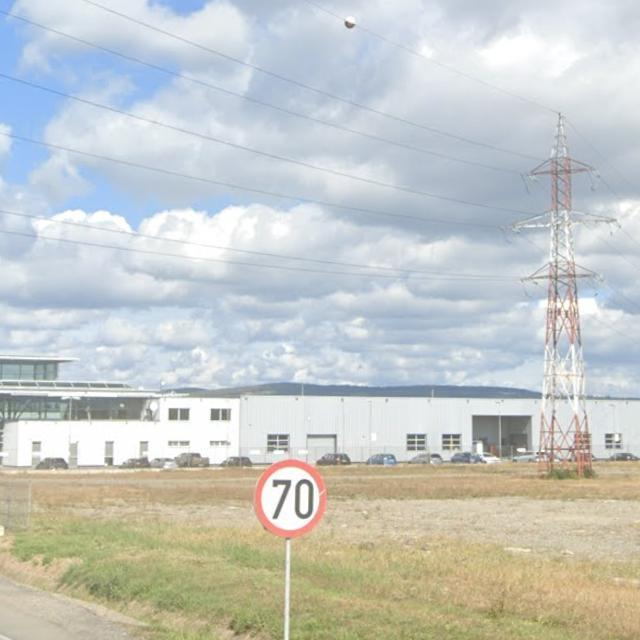forb_speed_over_70: (256, 460, 327, 537)
